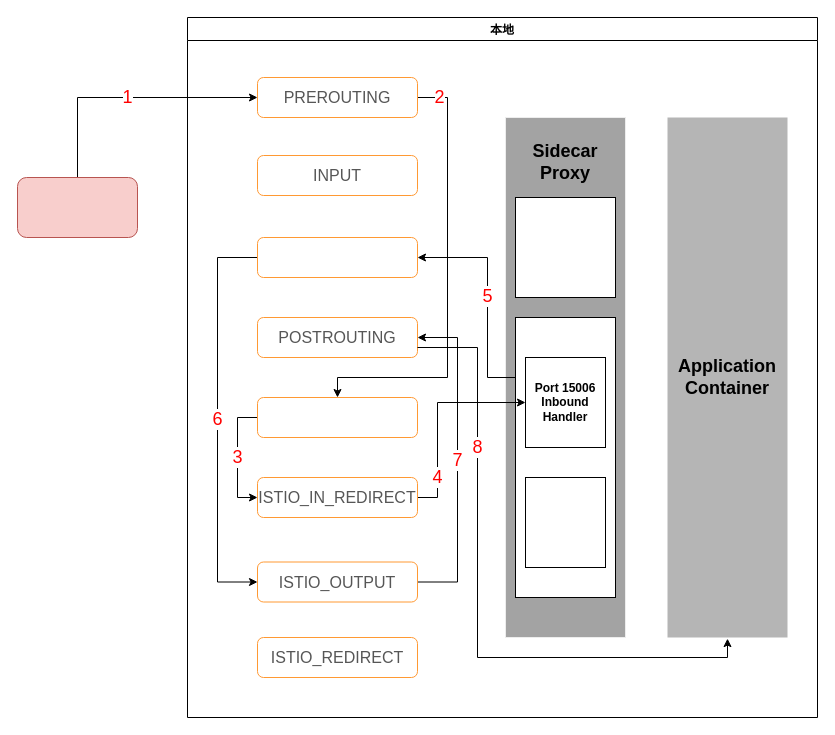
Image size: 835x735. Some labels were removed from this diagram. Each missing label, with the box of its shape:
ISTIO_INBOUND: (256, 396, 418, 438)
OUTPUT: (256, 236, 418, 278)
poliot-agent process: (514, 196, 616, 298)
Port 15001 Outbound Handler: (524, 476, 606, 568)
远端Pod: (16, 176, 138, 238)
